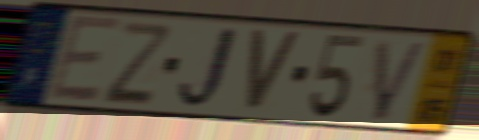5: (306, 32, 368, 122)
E: (44, 12, 125, 105)
J: (173, 22, 242, 114)
V: (244, 26, 304, 116), (370, 36, 431, 124)
Z: (100, 18, 173, 106)
